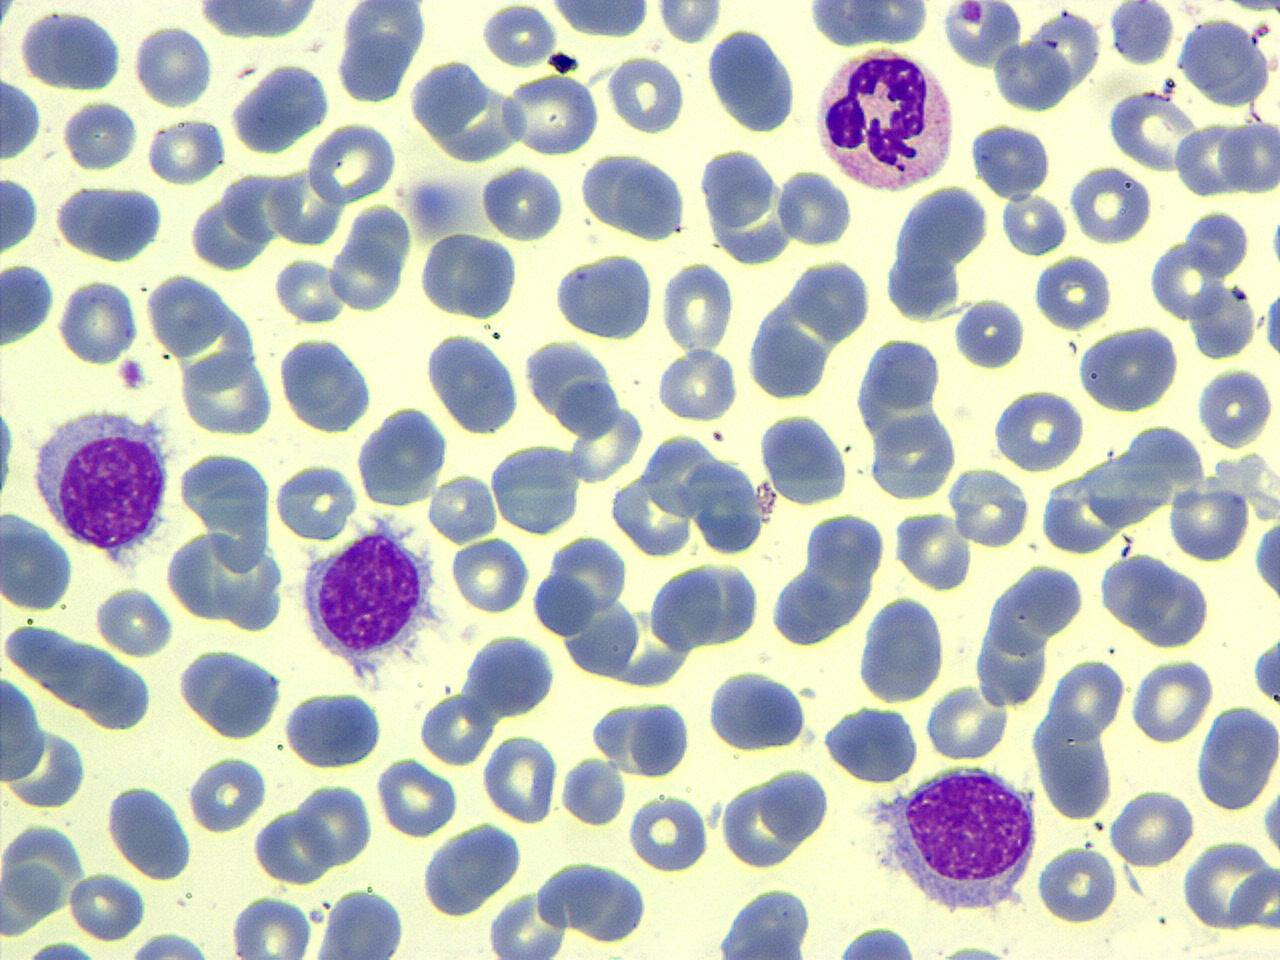Platelets: (480, 3, 560, 68), (559, 754, 627, 828), (405, 172, 462, 234), (1251, 514, 1280, 602), (1251, 632, 1280, 707), (0, 398, 17, 509), (932, 940, 1013, 960), (1258, 289, 1280, 358), (116, 353, 149, 392), (548, 51, 580, 76), (1268, 216, 1280, 273), (1231, 284, 1247, 300)
RBC: (854, 592, 948, 704), (276, 332, 377, 436), (354, 405, 450, 510), (1075, 321, 1181, 416), (1172, 12, 1276, 108), (14, 7, 127, 95), (1029, 707, 1115, 822), (415, 230, 521, 322), (1194, 702, 1280, 813), (756, 408, 851, 506), (704, 668, 812, 754), (1181, 837, 1277, 933), (487, 442, 584, 536), (104, 782, 195, 882), (500, 69, 602, 158), (334, 6, 422, 108), (864, 408, 958, 503), (462, 632, 560, 720), (990, 385, 1086, 474), (1106, 85, 1200, 174), (180, 350, 276, 437), (688, 451, 766, 558), (306, 119, 398, 207), (0, 508, 77, 610), (56, 276, 140, 368), (1129, 655, 1213, 745), (660, 257, 736, 356), (481, 731, 559, 826), (130, 22, 214, 110), (946, 464, 1033, 548), (1109, 785, 1197, 868), (1165, 479, 1249, 565), (274, 458, 358, 544), (892, 505, 973, 594), (293, 780, 373, 870), (1035, 842, 1119, 926), (1067, 163, 1153, 245), (924, 681, 1011, 762), (611, 155, 691, 243), (1048, 653, 1128, 741), (478, 163, 566, 242), (1196, 362, 1274, 451), (966, 120, 1051, 201), (648, 563, 724, 653), (989, 37, 1077, 114), (626, 792, 708, 874), (188, 751, 267, 835), (378, 756, 458, 838), (607, 53, 686, 136), (1149, 236, 1225, 322), (802, 0, 932, 50), (654, 346, 738, 423), (1031, 252, 1111, 332), (267, 163, 342, 248), (449, 536, 530, 614), (67, 868, 148, 944), (777, 165, 853, 246), (94, 583, 176, 658), (61, 97, 139, 171), (954, 293, 1027, 372), (486, 888, 566, 960), (229, 890, 311, 960), (144, 116, 226, 186), (417, 692, 492, 767), (0, 670, 47, 786), (480, 1, 559, 70), (1189, 283, 1261, 358), (272, 254, 348, 325), (628, 698, 690, 781), (426, 471, 496, 544), (560, 754, 626, 828), (1106, 2, 1176, 70), (1220, 118, 1280, 196), (998, 191, 1070, 256), (546, 0, 655, 38), (0, 71, 45, 162), (0, 168, 41, 257), (652, 0, 724, 45)
WBC: (873, 759, 1042, 916), (28, 400, 177, 560), (813, 44, 960, 198), (740, 251, 874, 404), (296, 526, 440, 660), (970, 560, 1078, 712), (161, 517, 294, 636), (698, 144, 796, 262), (413, 60, 520, 164), (226, 57, 334, 159), (176, 643, 286, 742), (424, 328, 523, 437), (704, 24, 800, 136), (276, 332, 379, 436), (419, 820, 525, 920), (1172, 10, 1276, 111), (856, 592, 948, 706), (334, 0, 429, 108), (15, 5, 126, 97), (417, 228, 522, 324), (1077, 320, 1181, 416), (1029, 706, 1115, 822), (551, 248, 657, 342), (356, 405, 450, 510), (52, 183, 169, 265), (105, 778, 194, 885), (759, 406, 854, 506), (861, 408, 962, 502), (1195, 702, 1277, 814), (706, 668, 812, 754), (488, 441, 582, 536), (280, 687, 385, 771), (820, 703, 924, 786), (710, 882, 820, 960), (0, 506, 77, 615), (557, 859, 651, 943), (309, 886, 409, 960), (755, 764, 832, 852), (992, 35, 1075, 116), (803, 0, 932, 47), (193, 0, 328, 42), (0, 668, 47, 786), (1, 255, 58, 350), (628, 698, 692, 781), (1192, 285, 1260, 360), (1107, 0, 1175, 69), (819, 924, 929, 958), (1252, 628, 1280, 708)
